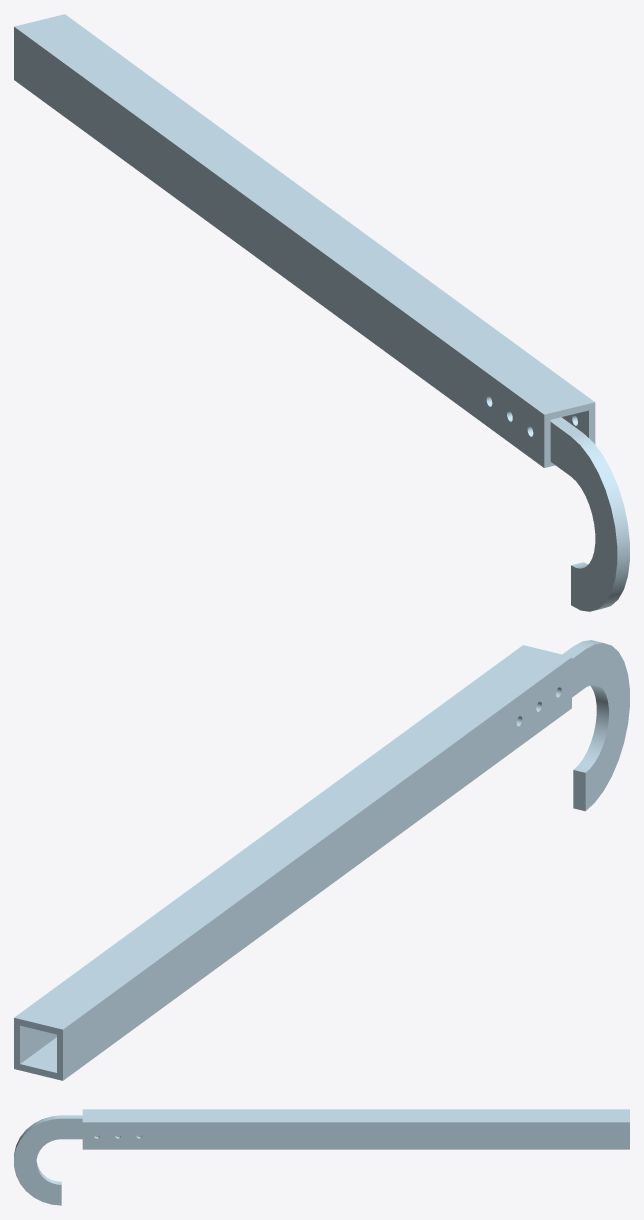
3 views of the same model, one above another, from view 1: azimuth 30°, elevation 25°; view 2: azimuth 150°, elevation 25°; view 3: azimuth 270°, elevation 25° (orthographic). The views are drawn at different scales.
Visible parts, largest first — view 1: mesh14_mesh_2, mesh14_mesh_8, mesh0_mesh_2, mesh0_mesh_4, mesh14_mesh_10; view 2: mesh14_mesh_2, mesh14_mesh_8, mesh0_mesh_2, mesh0_mesh_8, mesh14_mesh_11, mesh14_mesh_15, mesh14_mesh_12; view 3: mesh14_mesh_14, mesh14_mesh_8, mesh0_mesh_3, mesh0_mesh_4.
Part boxes in pixels (x1,y1,x2,y2): mesh14_mesh_2: (14, 27, 544, 467); mesh14_mesh_8: (14, 14, 594, 414); mesh0_mesh_2: (550, 422, 617, 611); mesh0_mesh_4: (571, 433, 629, 611); mesh14_mesh_10: (544, 402, 595, 467); mesh14_mesh_2: (63, 657, 571, 1080); mesh14_mesh_8: (14, 645, 571, 1029); mesh0_mesh_2: (572, 643, 629, 810); mesh0_mesh_8: (573, 684, 608, 772); mesh14_mesh_11: (14, 1018, 62, 1080); mesh14_mesh_15: (20, 1025, 56, 1063); mesh14_mesh_12: (20, 1037, 56, 1072); mesh14_mesh_14: (82, 1122, 629, 1149); mesh14_mesh_8: (82, 1109, 629, 1122); mesh0_mesh_3: (14, 1118, 141, 1205); mesh0_mesh_4: (14, 1115, 61, 1156).
Size of the model in its own units: 0.0254 by 0.0843 by 0.5146.
